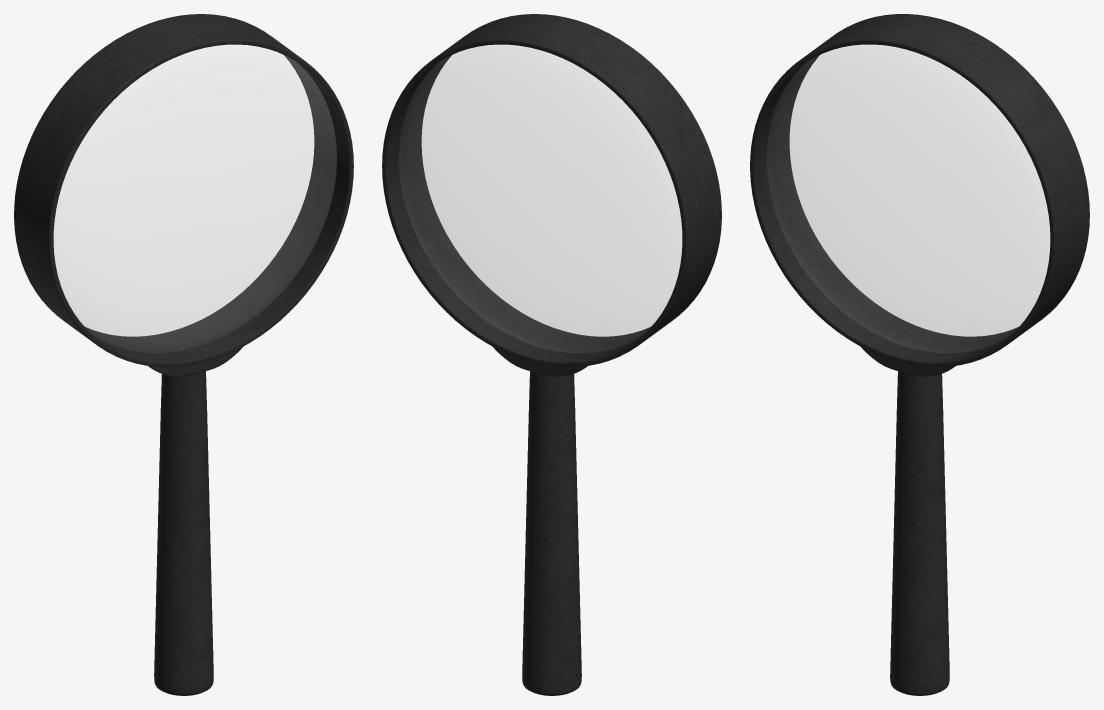
Rendered from magnifying_glass_01.glb.
The picture shows the model from 3 angles, left to right: view 1: azimuth 30°, elevation 25°; view 2: azimuth 150°, elevation 25°; view 3: azimuth 330°, elevation 25°; orthographic projection.
Parts seen in each view (by area): view 1: magnifying_glass_01; view 2: magnifying_glass_01; view 3: magnifying_glass_01.
Part boxes in pixels (<box>): magnifying_glass_01: <box>14,14,353,695</box>; magnifying_glass_01: <box>382,14,721,695</box>; magnifying_glass_01: <box>750,14,1089,695</box>.
Size of the model in its own units: 0.1321 by 0.2716 by 0.0267.
2 materials, 1 textured.
